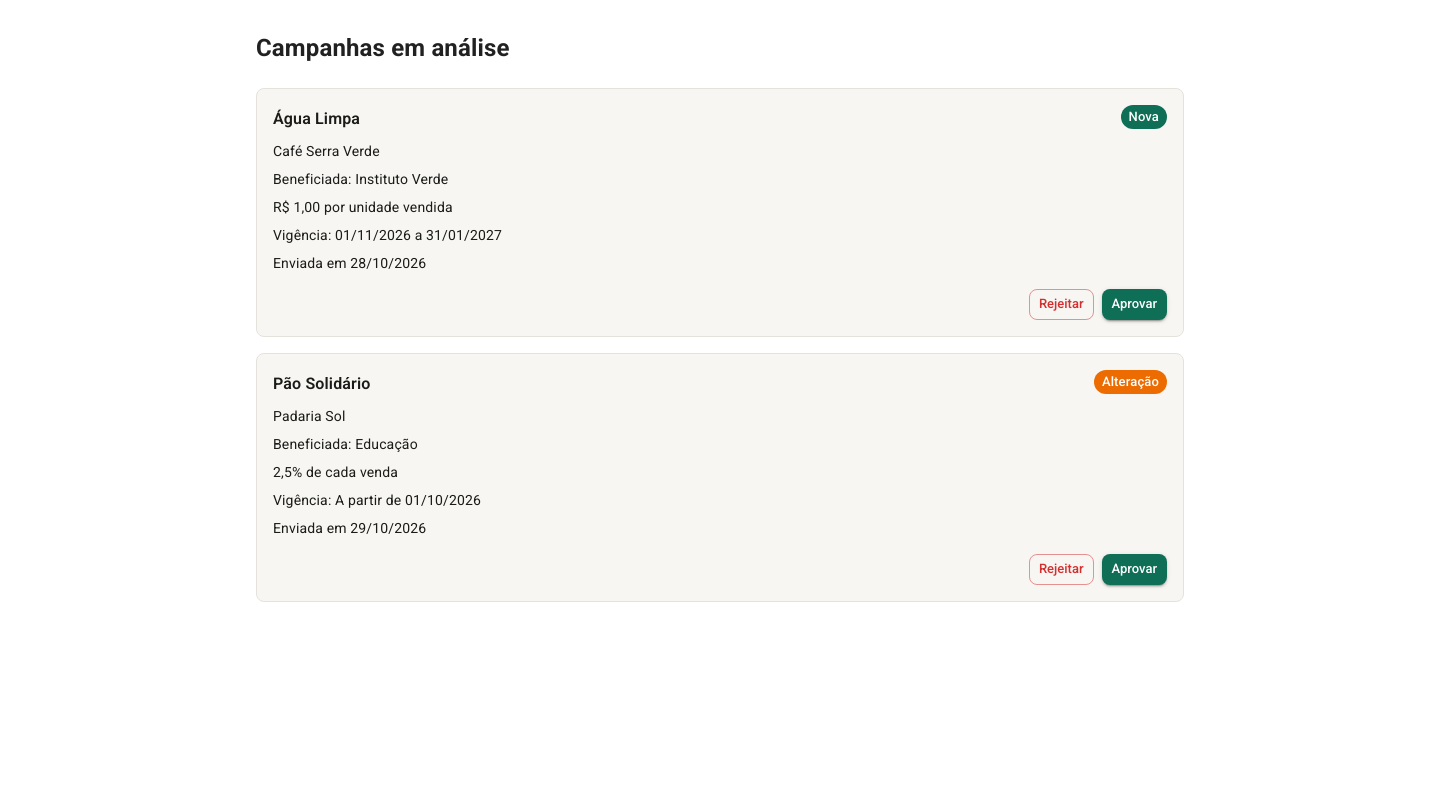
Test: Fila de campanhas do admin › no 409, mostra a mensagem da API e recarrega a fila
Click the button "Aprovar" below "Nova" at x=1134, y=304, box [1102,289,1167,320]
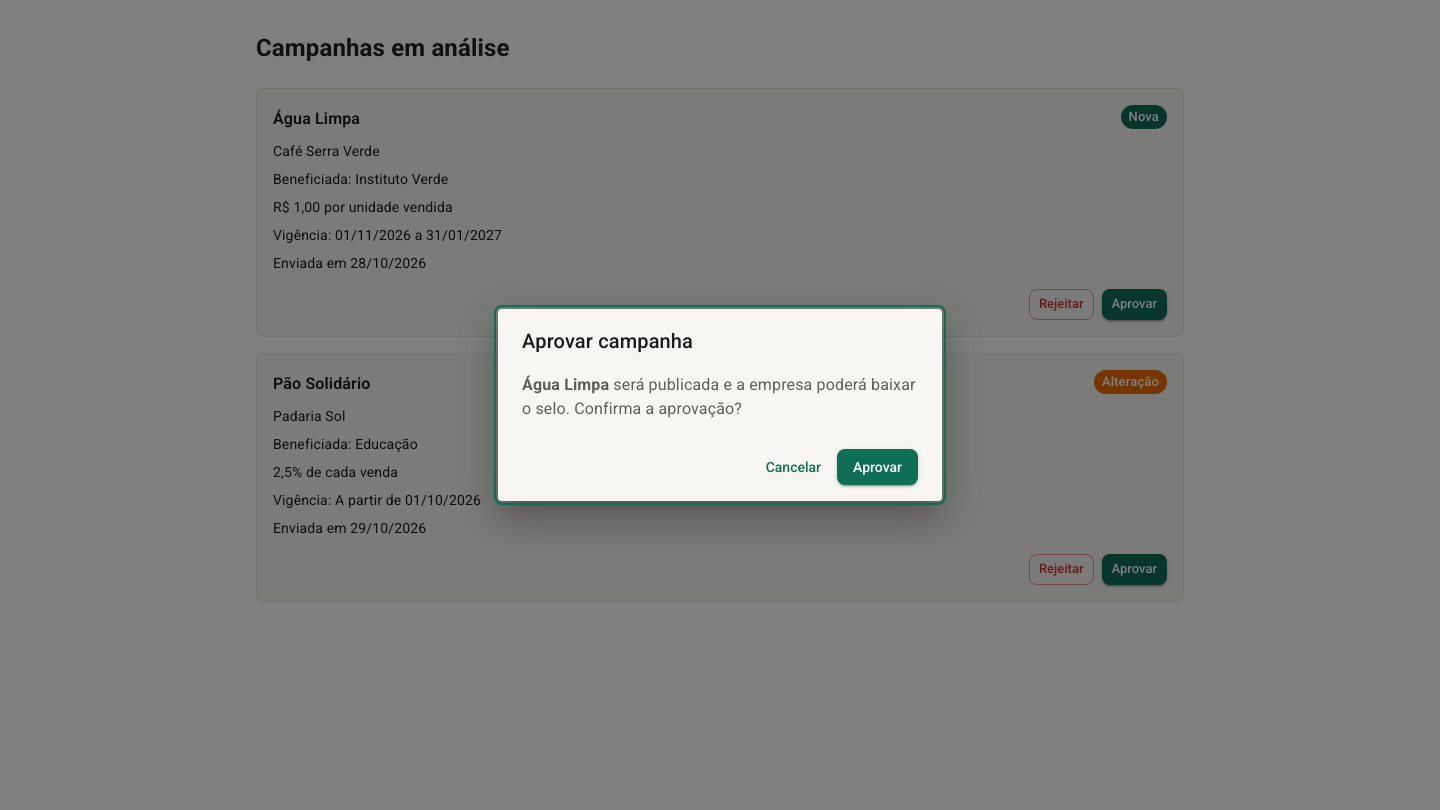
Click the button "Aprovar" at x=878, y=467, box [837,449,918,485]
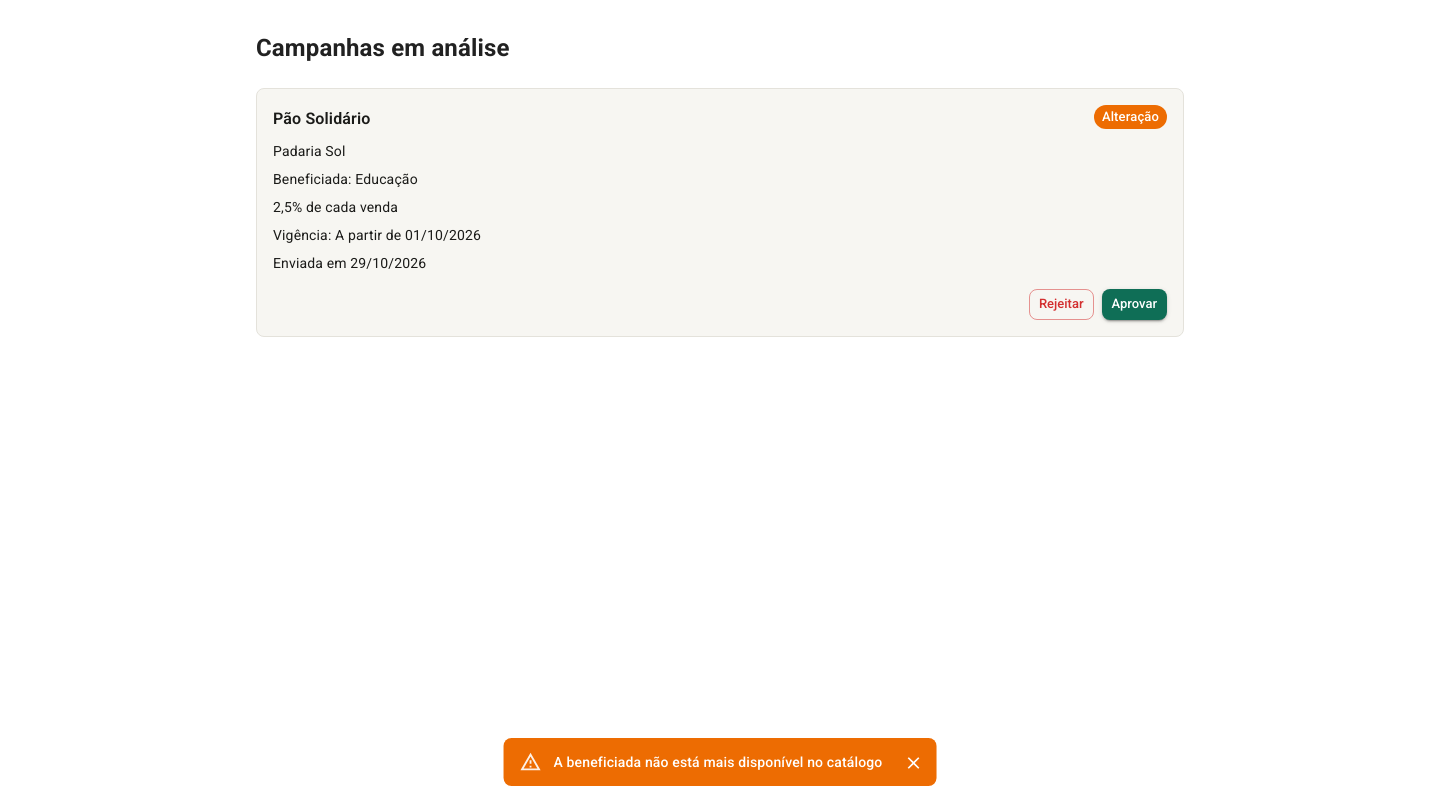
Expected: the text "A beneficiada não está mais disponível no catálogo" is shown, [554,754,882,770]
Expected: the heading "Água Limpa" is gone
